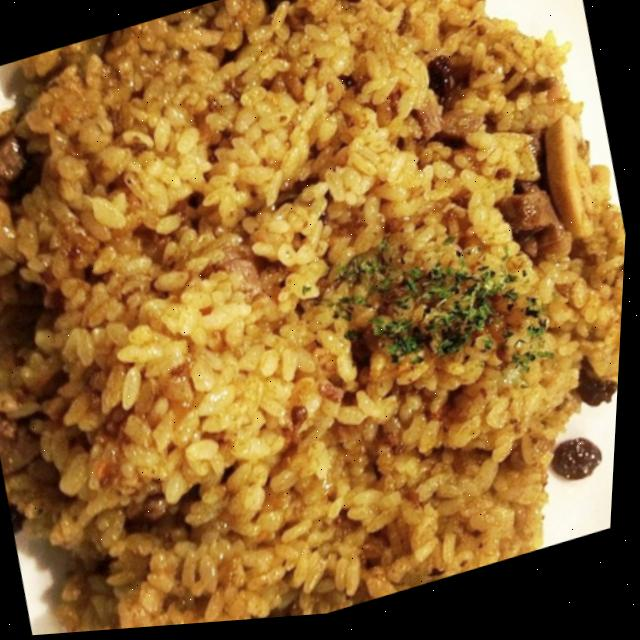熟制海鲜: (6, 60, 582, 638)
